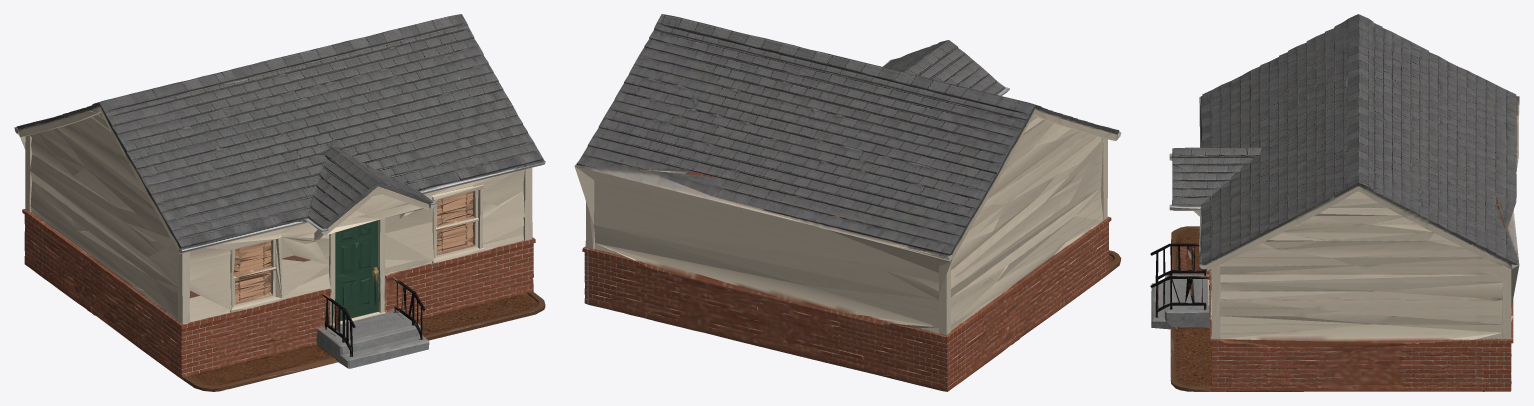
File: house.glb
3 renders of one model, left to right at view 1: azimuth 30°, elevation 25°; view 2: azimuth 150°, elevation 25°; view 3: azimuth 270°, elevation 25°, orthographic. The views are drawn at different scales.
Parts seen in each view (by area): view 1: Mesh_0; view 2: Mesh_0; view 3: Mesh_0.
Part boxes in pixels (box(x1,y1,x2,y2)): Mesh_0: box(14, 14, 545, 391); Mesh_0: box(574, 14, 1121, 391); Mesh_0: box(1150, 14, 1519, 391).
Bounding box in the file's own units: 1.9 × 1.12 × 1.75.
Materials: 1 (1 with a texture image).
